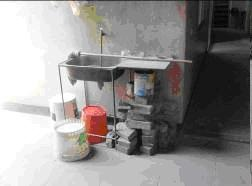bucket: (54, 118, 90, 161), (80, 104, 107, 143), (51, 93, 79, 126), (134, 70, 155, 96)
